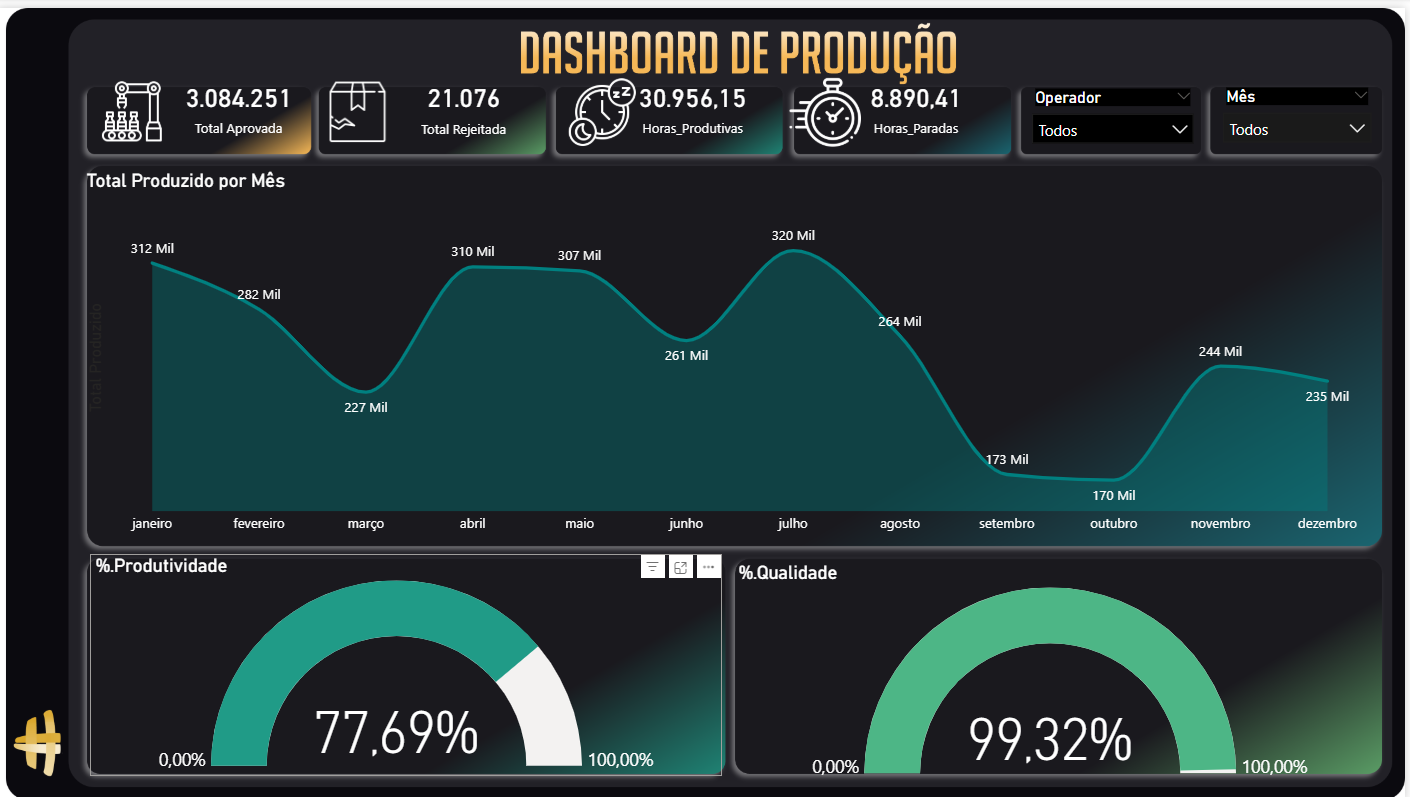

The page's visual inventory and layout, read from the dashboard file:
{"tool":"powerbi","page":{"name":"Página 1","canvas":[1280,720],"ordinal":0},"visuals":[{"type":"card","fields":{"Values":["BaseProdução.Total Aprovada"]},"box":[109.9,24.8,219.7,129],"z":0},{"type":"card","fields":{"Values":["BaseProdução.Total Rejeitada"]},"box":[309.3,32.5,230.4,113.4],"z":1000},{"type":"card","fields":{"Values":["BaseProdução.Horas_Produtivas"]},"box":[539.7,42.1,185.1,94.3],"z":2000},{"type":"card","fields":{"Values":["BaseProdução.Horas_Paradas"]},"box":[740.3,28.4,191,121.8],"z":3000},{"type":"areaChart","fields":{"Category":["BaseProdução.Data Inicio.Variation.Hierarquia de datas.Mês"],"Y":["BaseProdução.Total Produzido"]},"box":[76,146,1177,340],"z":4000},{"type":"gauge","fields":{"Y":["BaseProdução.%.Produtividade"]},"box":[84.7,496,574.5,202.6],"z":5000},{"type":"gauge","fields":{"Y":["BaseProdução.%.Qualidade"]},"box":[669,503,594,203],"z":6000},{"type":"slicer","fields":{"Values":["BaseProdução.Operador"]},"box":[931,68,167,68],"z":7000},{"type":"slicer","fields":{"Values":["BaseProdução.Data Inicio.Variation.Hierarquia de datas.Mês"]},"box":[1104.6,67.7,154.6,67.7],"z":8000},{"type":"image","box":[84.6,60.3,75.4,67.7],"z":9000},{"type":"image","box":[297.5,61,65,66.2],"z":10000},{"type":"image","box":[513.1,57.9,75,72.5],"z":11000},{"type":"image","box":[715,56,75,76.2],"z":12000}]}

Visuals, with their boxes in screenshot pixels (x1, y1, x2, y2), scaled from the page's 1280x720 canvas onto the 1410x797 screenshot:
card - BaseProdução.Total Aprovada: region(121, 27, 363, 170)
card - BaseProdução.Total Rejeitada: region(341, 36, 595, 162)
card - BaseProdução.Horas_Produtivas: region(595, 47, 798, 151)
card - BaseProdução.Horas_Paradas: region(815, 31, 1026, 166)
areaChart - BaseProdução.Data Inicio.Variation.Hierarquia de datas.Mês x BaseProdução.Total Produzido: region(84, 162, 1380, 538)
gauge - BaseProdução.%.Produtividade: region(93, 549, 726, 773)
gauge - BaseProdução.%.Qualidade: region(737, 557, 1391, 782)
slicer - BaseProdução.Operador: region(1026, 75, 1210, 151)
slicer - BaseProdução.Data Inicio.Variation.Hierarquia de datas.Mês: region(1217, 75, 1387, 150)
image: region(93, 67, 176, 142)
image: region(328, 68, 399, 141)
image: region(565, 64, 648, 144)
image: region(788, 62, 870, 146)
